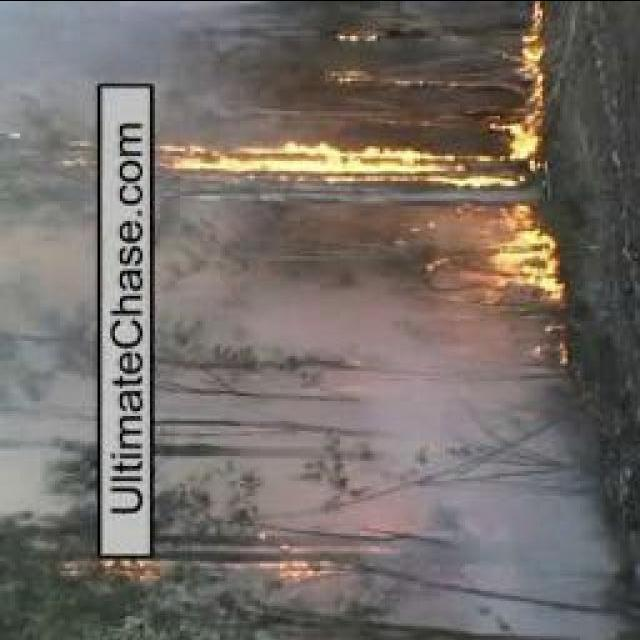Fire: (482, 0, 550, 295), (147, 140, 478, 180), (65, 546, 172, 595), (248, 552, 332, 592), (328, 63, 457, 87), (334, 27, 380, 49)
